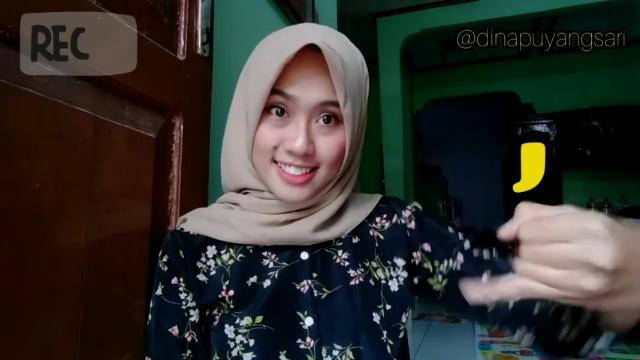J: (452, 200, 640, 320)
